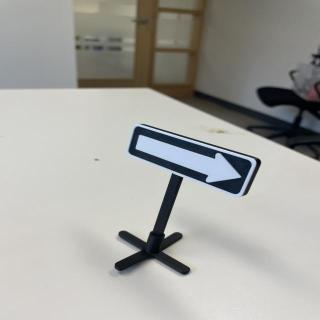sign_oneway_right: (127, 124, 263, 198)
